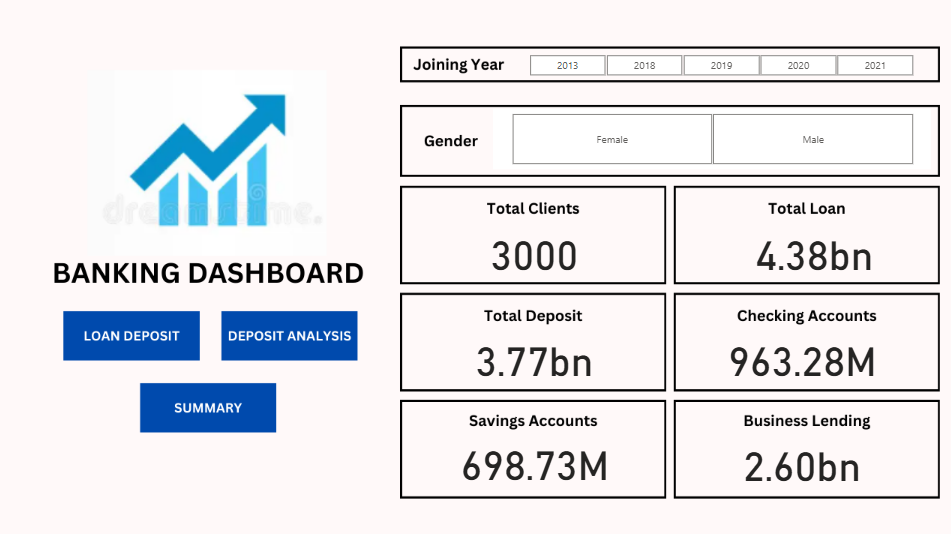

Layout of this report page (visuals, bound fields, positions):
{"tool":"powerbi","page":{"name":"Home 2","canvas":[1280,720],"ordinal":1},"visuals":[{"type":"card","fields":{"Values":["Min(banking_case customer.Name)"]},"box":[580.5,275.2,213.6,74.7],"z":0},{"type":"slicer","fields":{"Values":["banking_case customer.GenderId"]},"box":[629.8,145.2,614.3,81],"z":1000},{"type":"card","fields":{"Values":["banking_case customer.Total Loan"]},"box":[951.4,275.2,214.9,74.7],"z":2000},{"type":"card","fields":{"Values":["banking_case customer.Total Deposit"]},"box":[581.8,419.3,212.3,74.7],"z":3000},{"type":"slicer","fields":{"Values":["banking_case customer.Year of Joining"]},"box":[671.4,83.3,560.7,34.5],"z":4000},{"type":"card","fields":{"Values":["Sum(banking_case customer.Saving Accounts)"]},"box":[580.5,560.9,213.6,74.7],"z":5000},{"type":"card","fields":{"Values":["Sum(banking_case customer.Business Lending)"]},"box":[951.4,559.5,213.6,74.7],"z":6000},{"type":"card","fields":{"Values":["Sum(banking_case customer.Checking Accounts)"]},"box":[951.4,418,213.6,76],"z":7000},{"type":"actionButton","box":[191.5,514.3,175.7,55.4],"z":8000},{"type":"actionButton","box":[348.2,31.7,221.6,39.6],"z":9000},{"type":"actionButton","box":[91.8,417.8,172.5,58.6],"z":10000},{"type":"actionButton","box":[297.5,419.4,185.2,57],"z":11000}]}

Visuals, with their boxes in screenshot pixels (x1, y1, x2, y2), scaled from the page's 1280x720 canvas onto the 951x534 screenshot:
card - Min(banking_case customer.Name): 431:204:590:260
slicer - banking_case customer.GenderId: 468:108:924:168
card - banking_case customer.Total Loan: 707:204:867:260
card - banking_case customer.Total Deposit: 432:311:590:366
slicer - banking_case customer.Year of Joining: 499:62:915:87
card - Sum(banking_case customer.Saving Accounts): 431:416:590:471
card - Sum(banking_case customer.Business Lending): 707:415:866:470
card - Sum(banking_case customer.Checking Accounts): 707:310:866:366
actionButton: 142:381:273:423
actionButton: 259:24:423:53
actionButton: 68:310:196:353
actionButton: 221:311:359:353
